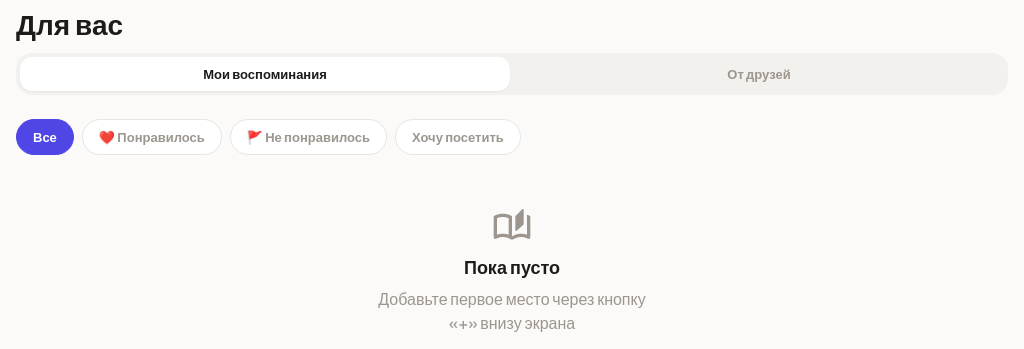
Test: FeedPage — "От друзей" error handling › shows a full-page error with retry when the initial load fails (no data yet)
Click the button "От друзей" at point(759, 74), box [514,57,1004,91]
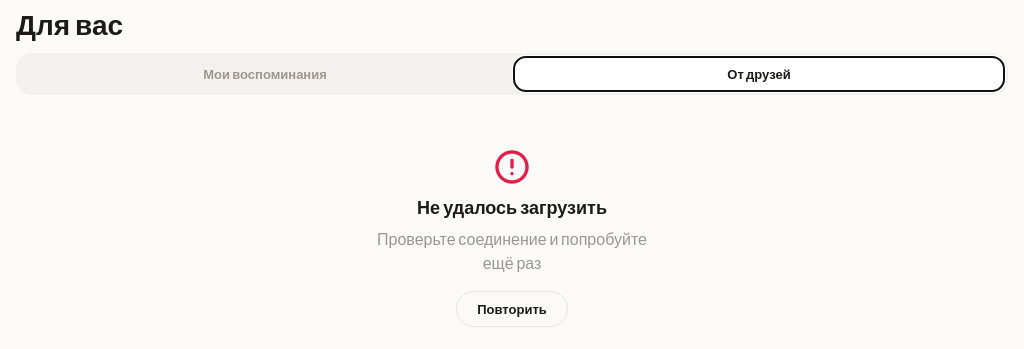
Expected: the text "Не удалось загрузить" is shown, [417,195,607,219]
